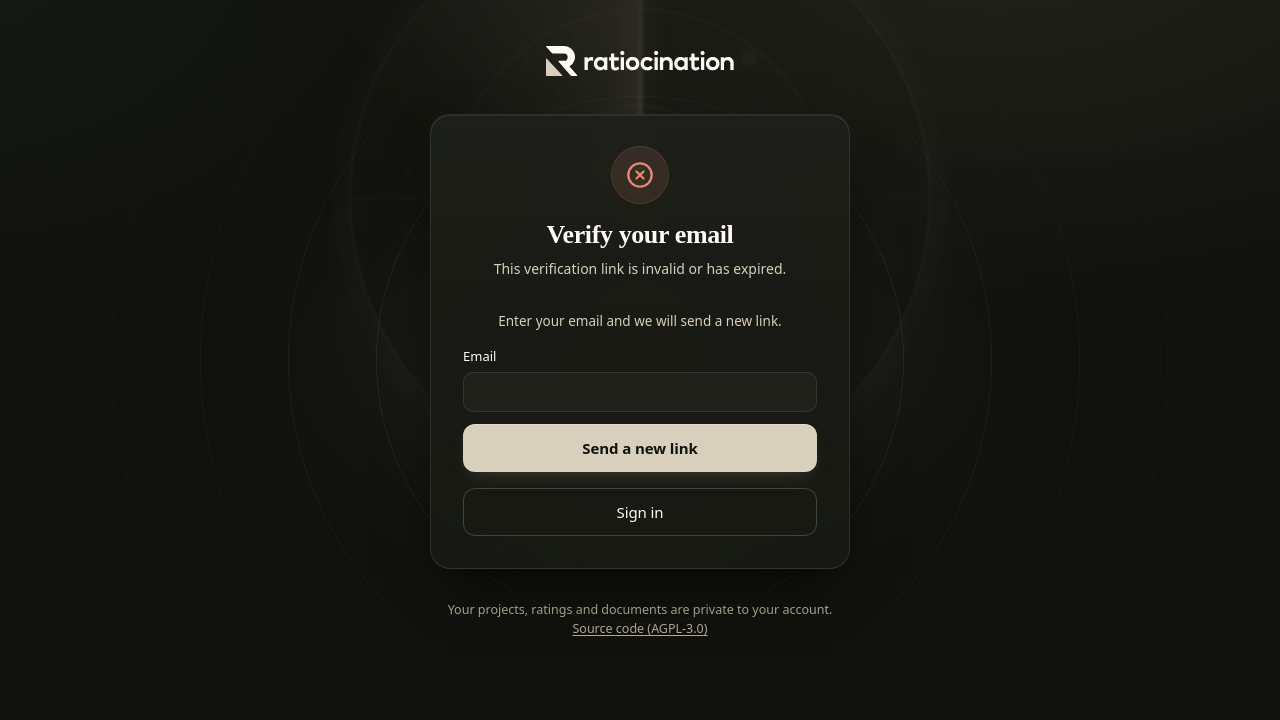
Scenario: VerifyEmailPage › offers a new link by email when signed out
Check: the text "This verification link is invalid or has expired." is shown, box x1=494 y1=258 x2=786 y2=278
In the field labelled "Email": [640, 392] box x1=463 y1=372 x2=817 y2=412, type "ada@example.org"
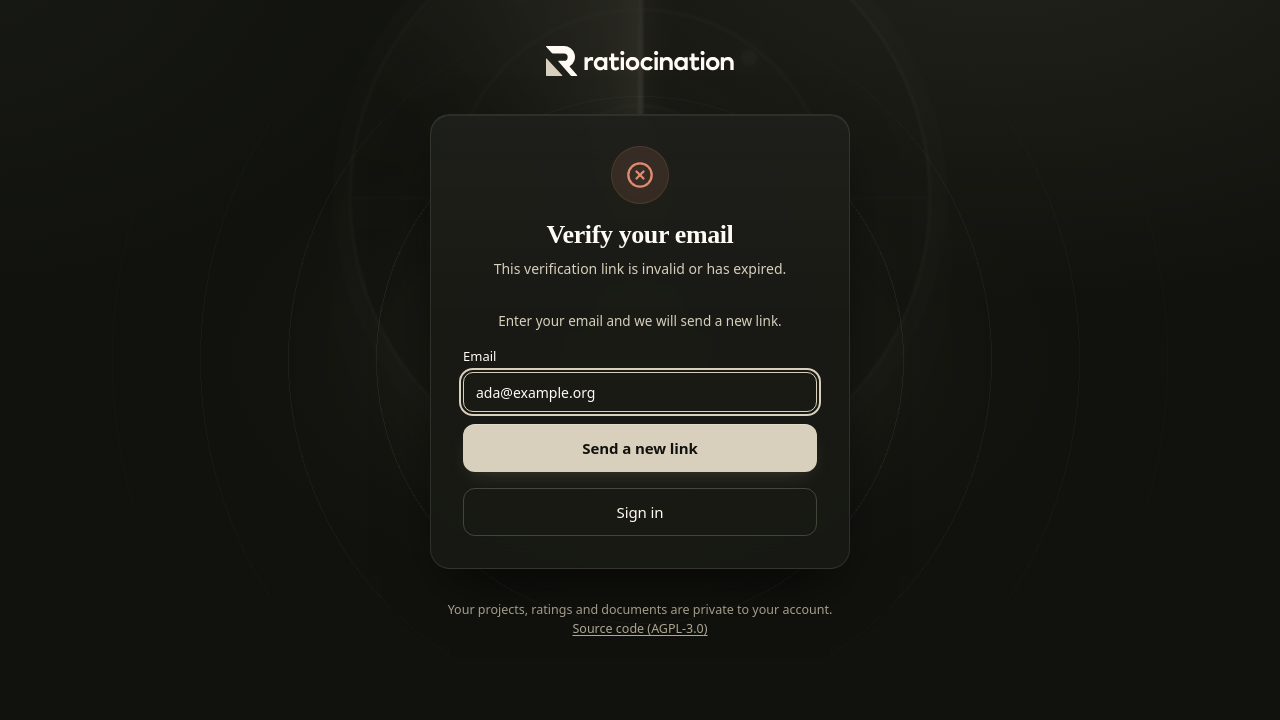
Click the button "Send a new link": [640, 448] box x1=463 y1=424 x2=817 y2=472
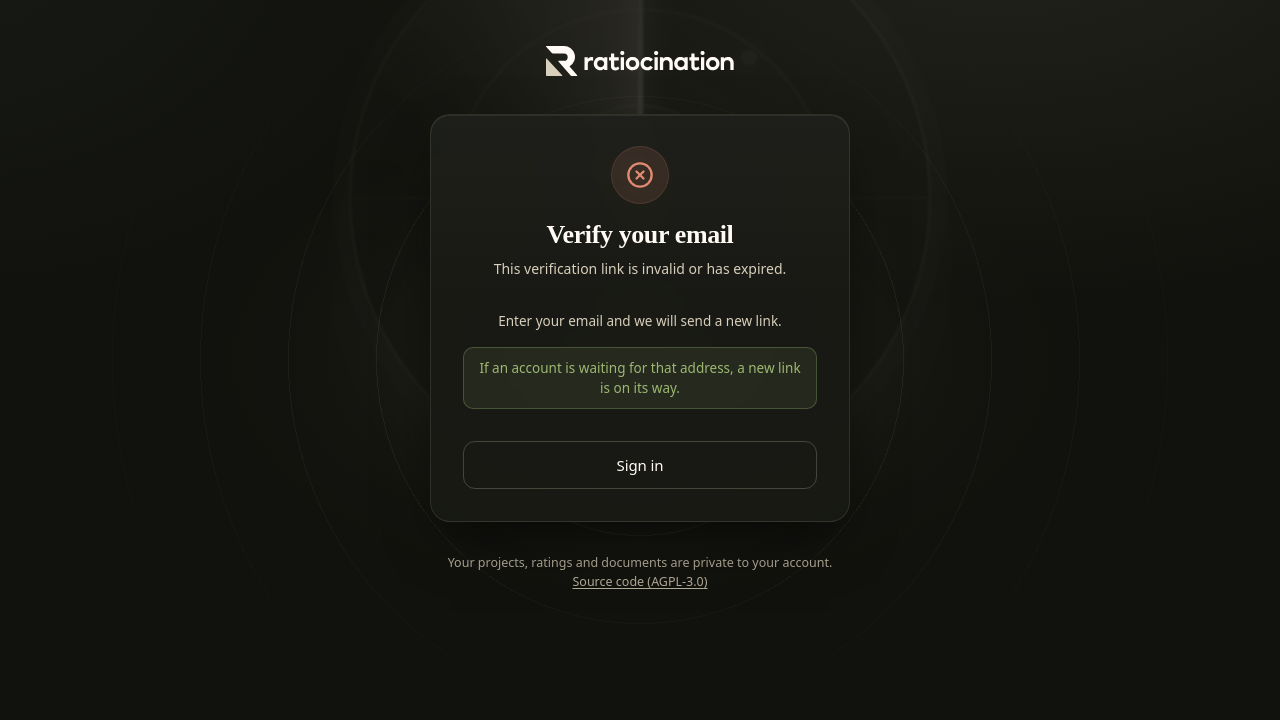
Check: the text "If an account is waiting for that address, a new link is on its way." is shown, box x1=463 y1=347 x2=817 y2=409
